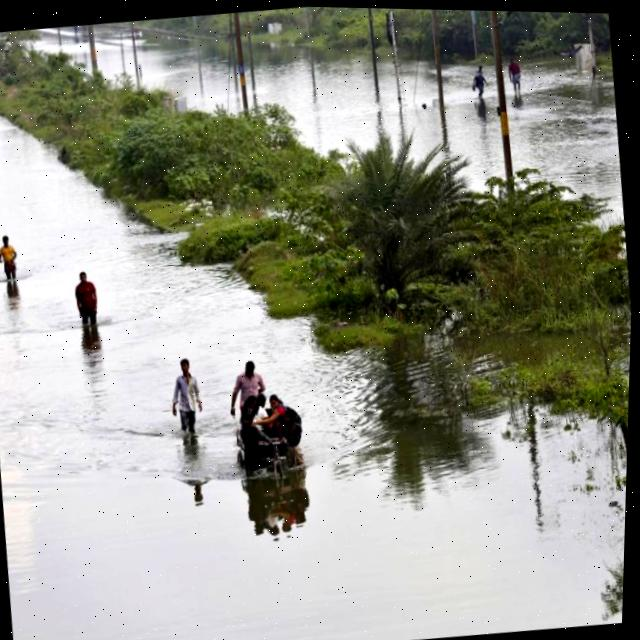civilian: (162, 352, 214, 460), (222, 357, 267, 438), (64, 261, 104, 339), (247, 388, 275, 452), (466, 52, 494, 106), (0, 230, 26, 288), (505, 52, 527, 100), (249, 392, 273, 429), (267, 388, 290, 424)
